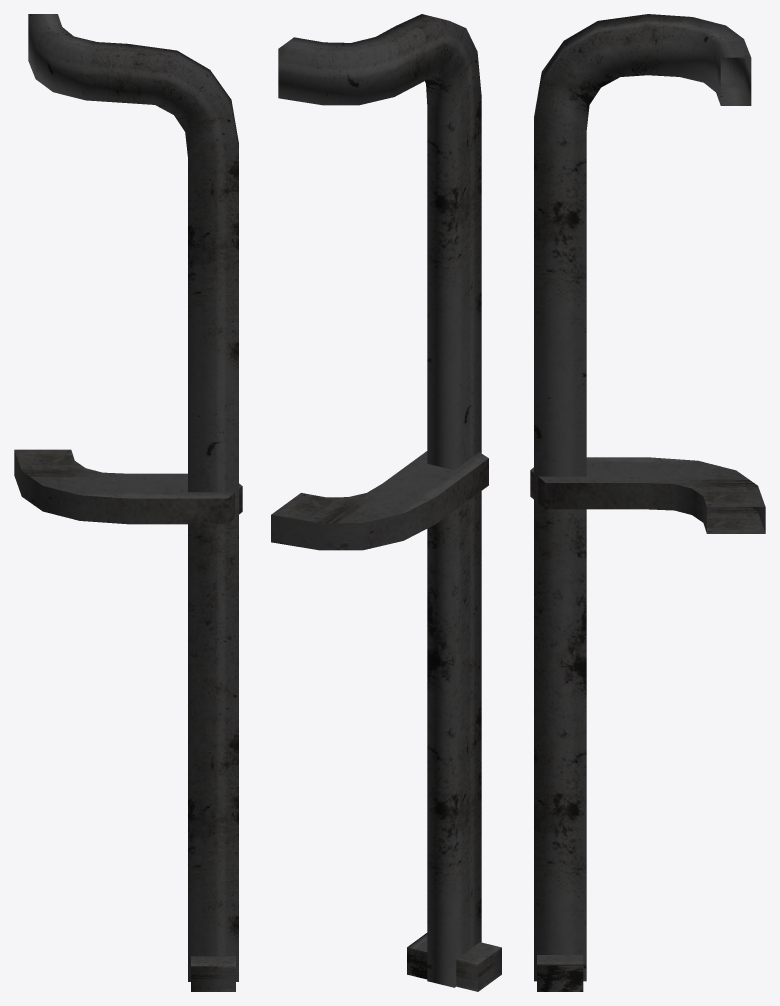
File: cs_handrail_90_right_lod1.glb
3 renders of one model, left to right at view 1: azimuth 90°, elevation 25°; view 2: azimuth 150°, elevation 25°; view 3: azimuth 270°, elevation 25°, orthographic. The views are drawn at different scales.
Parts seen in each view (by area): view 1: surf0; view 2: surf0; view 3: surf0.
Part boxes in pixels (bbox=[...]): surf0: bbox=[14, 14, 242, 991]; surf0: bbox=[271, 14, 501, 991]; surf0: bbox=[530, 14, 765, 991].
Bounding box in the file's own units: 4.37 × 35.91 × 8.02.
